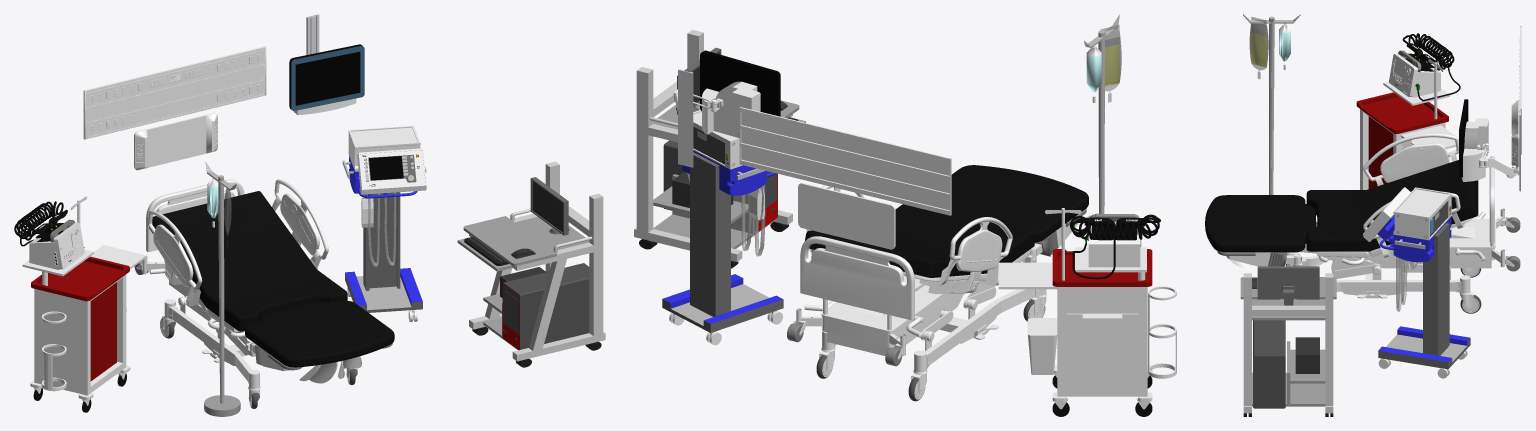
Rendered from hospital_assets.obj.
The picture shows the model from 3 angles, left to right: view 1: azimuth 30°, elevation 25°; view 2: azimuth 150°, elevation 25°; view 3: azimuth 270°, elevation 25°; orthographic projection. The views are drawn at different scales.
Visible parts, largest first — view 1: Mesh1 Group3 Group2 HillRom_Affinity_Birthing_Bed__SU_2017_1 Mod, Mesh118 FamilyGeomCombination_3432_1 E0954___Cart__Emergency__Mo, Mesh2 Group4 Group2 HillRom_Affinity_Birthing_Bed__SU_2017_1 Mod, Mesh220 ventilator_Evita1 Model, Mesh390 su1 Component_76_1 Model, Mesh192 G_1550_1 Patient_Monitor_Philips_IntellieVue_MX800_1_1 P, Mesh216 ventilator_Evita1 Model, Mesh395 Component_68_1 Component_76_1 Model, Mesh218 ventilator_Evita1 Model, Mesh137 E0954___Cart__Emergency__Mobile__66H_x_52W_x_22D1 E0954_, Mesh409 Component_127_1 Drip1 Model, Mesh232 Component_108_1 Group37 Headwall_Silhouette__SU_2017_1 M (+33 smaller); view 2: Mesh118 FamilyGeomCombination_3432_1 E0954___Cart__Emergency__Mo, Mesh220 ventilator_Evita1 Model, Mesh35 Component_121_1 Group2 HillRom_Affinity_Birthing_Bed__SU_, Mesh2 Group4 Group2 HillRom_Affinity_Birthing_Bed__SU_2017_1 Mod, Mesh1 Group3 Group2 HillRom_Affinity_Birthing_Bed__SU_2017_1 Mod, Mesh192 G_1550_1 Patient_Monitor_Philips_IntellieVue_MX800_1_1 P, Mesh4 Group6 Group2 HillRom_Affinity_Birthing_Bed__SU_2017_1 Mod, Mesh218 ventilator_Evita1 Model, Mesh233 Component_108_2 Group37 Headwall_Silhouette__SU_2017_1 M, Mesh232 Component_108_1 Group37 Headwall_Silhouette__SU_2017_1 M, Mesh392 Component_66_2 Component_76_1 Model, Mesh14 Group_460_2 Group2 HillRom_Affinity_Birthing_Bed__SU_2017 (+35 smaller); view 3: Mesh1 Group3 Group2 HillRom_Affinity_Birthing_Bed__SU_2017_1 Mod, Mesh2 Group4 Group2 HillRom_Affinity_Birthing_Bed__SU_2017_1 Mod, Mesh220 ventilator_Evita1 Model, Mesh218 ventilator_Evita1 Model, Mesh390 su1 Component_76_1 Model, Mesh118 FamilyGeomCombination_3432_1 E0954___Cart__Emergency__Mo, Mesh4 Group6 Group2 HillRom_Affinity_Birthing_Bed__SU_2017_1 Mod, Mesh374 monitor1 Group38 Component_76_1 Model, Mesh192 G_1550_1 Patient_Monitor_Philips_IntellieVue_MX800_1_1 P, Mesh89 Group21 Group_458_2 Group2 HillRom_Affinity_Birthing_Bed_, Mesh409 Component_127_1 Drip1 Model, Mesh9 Group_460_1 Group2 HillRom_Affinity_Birthing_Bed__SU_2017_ (+26 smaller).
Part boxes in pixels (<box>): Mesh1 Group3 Group2 HillRom_Affinity_Birthing_Bed__SU_2017_1 Mod: <box>149,191,347,331</box>; Mesh118 FamilyGeomCombination_3432_1 E0954___Cart__Emergency__Mo: <box>34,261,126,395</box>; Mesh2 Group4 Group2 HillRom_Affinity_Birthing_Bed__SU_2017_1 Mod: <box>245,301,394,367</box>; Mesh220 ventilator_Evita1 Model: <box>345,192,422,312</box>; Mesh390 su1 Component_76_1 Model: <box>502,263,589,349</box>; Mesh192 G_1550_1 Patient_Monitor_Philips_IntellieVue_MX800_1_1 P: <box>289,44,364,115</box>; Mesh216 ventilator_Evita1 Model: <box>357,148,426,194</box>; Mesh395 Component_68_1 Component_76_1 Model: <box>463,216,556,266</box>; Mesh218 ventilator_Evita1 Model: <box>348,125,420,198</box>; Mesh137 E0954___Cart__Emergency__Mobile__66H_x_52W_x_22D1 E0954_: <box>90,282,116,381</box>; Mesh409 Component_127_1 Drip1 Model: <box>204,161,240,416</box>; Mesh232 Component_108_1 Group37 Headwall_Silhouette__SU_2017_1 M: <box>176,112,217,160</box>; Mesh118 FamilyGeomCombination_3432_1 E0954___Cart__Emergency__Mo: <box>1057,255,1147,396</box>; Mesh220 ventilator_Evita1 Model: <box>662,152,783,332</box>; Mesh35 Component_121_1 Group2 HillRom_Affinity_Birthing_Bed__SU_: <box>800,236,914,320</box>; Mesh2 Group4 Group2 HillRom_Affinity_Birthing_Bed__SU_2017_1 Mod: <box>951,165,1088,242</box>; Mesh1 Group3 Group2 HillRom_Affinity_Birthing_Bed__SU_2017_1 Mod: <box>805,204,1034,277</box>; Mesh192 G_1550_1 Patient_Monitor_Philips_IntellieVue_MX800_1_1 P: <box>700,50,780,137</box>; Mesh4 Group6 Group2 HillRom_Affinity_Birthing_Bed__SU_2017_1 Mod: <box>821,276,966,356</box>; Mesh218 ventilator_Evita1 Model: <box>682,110,776,195</box>; Mesh233 Component_108_2 Group37 Headwall_Silhouette__SU_2017_1 M: <box>846,194,895,249</box>; Mesh232 Component_108_1 Group37 Headwall_Silhouette__SU_2017_1 M: <box>798,183,846,238</box>; Mesh392 Component_66_2 Component_76_1 Model: <box>636,121,653,232</box>; Mesh14 Group_460_2 Group2 HillRom_Affinity_Birthing_Bed__SU_2017: <box>925,289,1034,365</box>; Mesh1 Group3 Group2 HillRom_Affinity_Birthing_Bed__SU_2017_1 Mod: <box>1306,160,1478,251</box>; Mesh2 Group4 Group2 HillRom_Affinity_Birthing_Bed__SU_2017_1 Mod: <box>1205,195,1315,252</box>; Mesh220 ventilator_Evita1 Model: <box>1378,223,1470,369</box>; Mesh218 ventilator_Evita1 Model: <box>1379,187,1451,262</box>; Mesh390 su1 Component_76_1 Model: <box>1253,320,1285,408</box>; Mesh118 FamilyGeomCombination_3432_1 E0954___Cart__Emergency__Mo: <box>1360,96,1445,189</box>; Mesh4 Group6 Group2 HillRom_Affinity_Birthing_Bed__SU_2017_1 Mod: <box>1327,219,1495,268</box>; Mesh374 monitor1 Group38 Component_76_1 Model: <box>1257,266,1319,299</box>; Mesh192 G_1550_1 Patient_Monitor_Philips_IntellieVue_MX800_1_1 P: <box>1459,99,1488,181</box>; Mesh89 Group21 Group_458_2 Group2 HillRom_Affinity_Birthing_Bed_: <box>1380,143,1449,182</box>; Mesh409 Component_127_1 Drip1 Model: <box>1243,14,1300,194</box>; Mesh9 Group_460_1 Group2 HillRom_Affinity_Birthing_Bed__SU_2017_: <box>1336,280,1456,291</box>.
Bounding box in the file's own units: 3.89 × 1.96 × 2.31.
